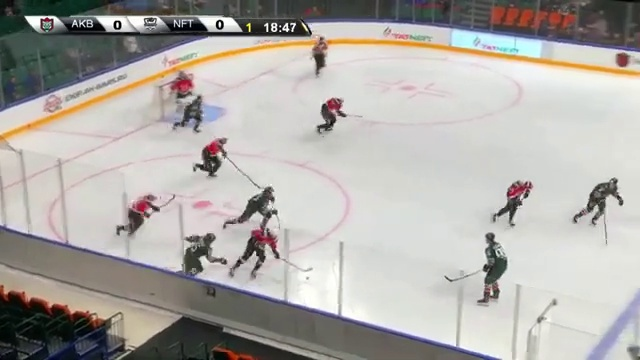gates: (473, 227, 518, 287), (184, 228, 227, 271), (236, 170, 272, 221), (181, 88, 218, 136), (586, 177, 624, 221)
referee: (155, 76, 196, 118)
team_1: (307, 36, 329, 82)
team_2: (118, 188, 161, 245), (251, 210, 291, 265), (492, 178, 535, 219), (157, 72, 201, 112), (200, 131, 234, 174), (324, 86, 354, 133)
